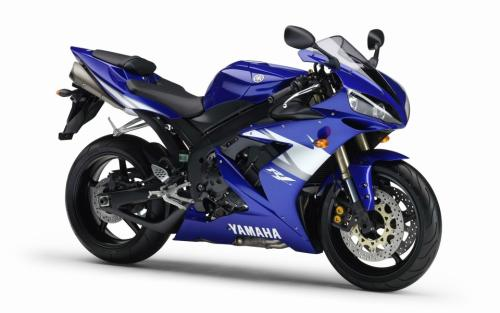motor: (52, 28, 450, 291)
